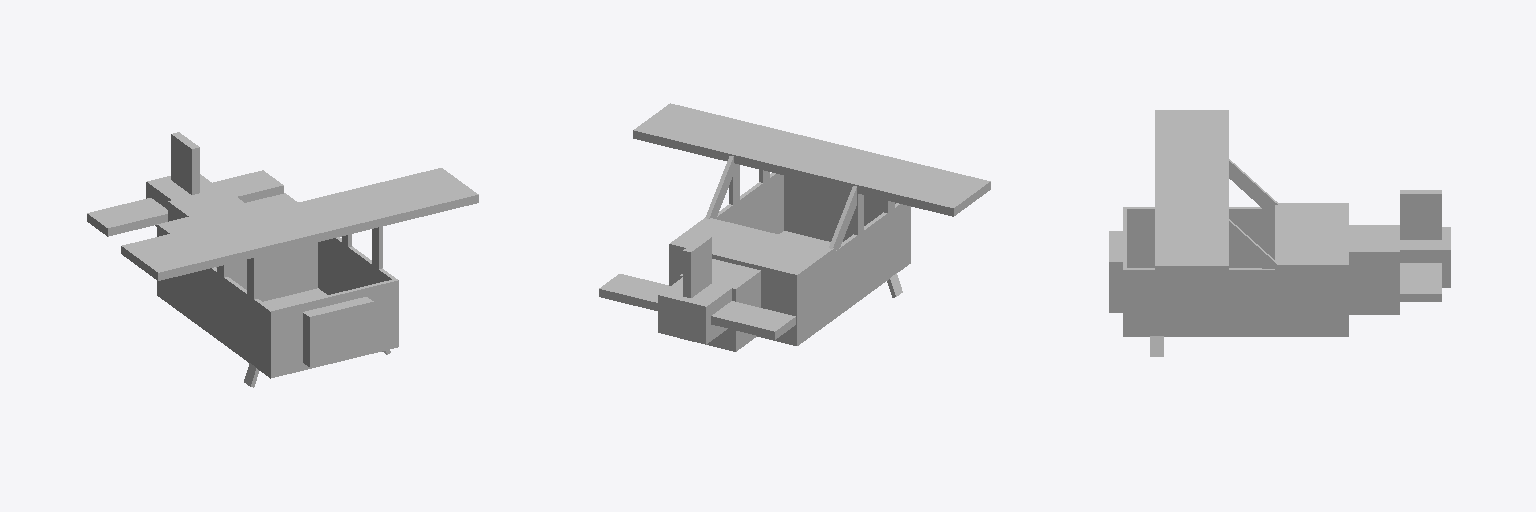
Rendered from transporter_plane.obj.
3 views of the same model, side by side, from view 1: azimuth 30°, elevation 25°; view 2: azimuth 150°, elevation 25°; view 3: azimuth 270°, elevation 25° (orthographic).
Visible parts, largest first — view 1: cube.010, cube.019, cube.015, cube.016, cube.018, cube.017, cube.009, cube.038, cube.005, cube.030, cube.004, cube.026 (+9 smaller); view 2: cube.024, cube.019, cube.030, cube.015, cube.017, cube.018, cube.016, cube.022, cube.003, cube.004, cube.005, cube.023 (+10 smaller); view 3: cube.007, cube.008, cube.023, cube.006, cube.017, cube.036, cube.015, cube.016, cube.018, cube.019, cube.022, cube.027 (+7 smaller).
Boxes of the visible parts, x1,y1,x2,y2 form: cube.010: [303, 297, 373, 366]; cube.019: [121, 230, 221, 280]; cube.015: [249, 199, 350, 249]; cube.016: [314, 183, 414, 233]; cube.018: [186, 215, 285, 265]; cube.017: [378, 168, 478, 217]; cube.009: [268, 294, 334, 378]; cube.038: [258, 242, 317, 301]; cube.005: [231, 282, 271, 371]; cube.030: [333, 279, 398, 362]; cube.004: [194, 267, 234, 344]; cube.026: [87, 198, 167, 236]; cube.024: [658, 277, 731, 344]; cube.019: [890, 166, 990, 216]; cube.030: [784, 176, 843, 241]; cube.015: [761, 135, 861, 184]; cube.017: [633, 103, 732, 153]; cube.018: [825, 150, 925, 200]; cube.016: [697, 119, 797, 169]; cube.022: [733, 233, 833, 278]; cube.003: [793, 253, 833, 341]; cube.004: [834, 224, 870, 314]; cube.005: [868, 203, 907, 287]; cube.023: [680, 259, 760, 351]; cube.007: [1275, 270, 1348, 332]; cube.008: [1201, 268, 1274, 332]; cube.023: [1349, 225, 1399, 314]; cube.006: [1127, 268, 1200, 332]; cube.017: [1155, 235, 1228, 274]; cube.036: [1275, 234, 1348, 269]; cube.015: [1155, 172, 1228, 203]; cube.016: [1155, 204, 1228, 234]; cube.018: [1155, 141, 1228, 171]; cube.019: [1155, 110, 1228, 140]; cube.022: [1275, 203, 1348, 233]; cube.027: [1400, 190, 1441, 239].
Bounding box in the file's own units: 5 × 2.03 × 4.62.